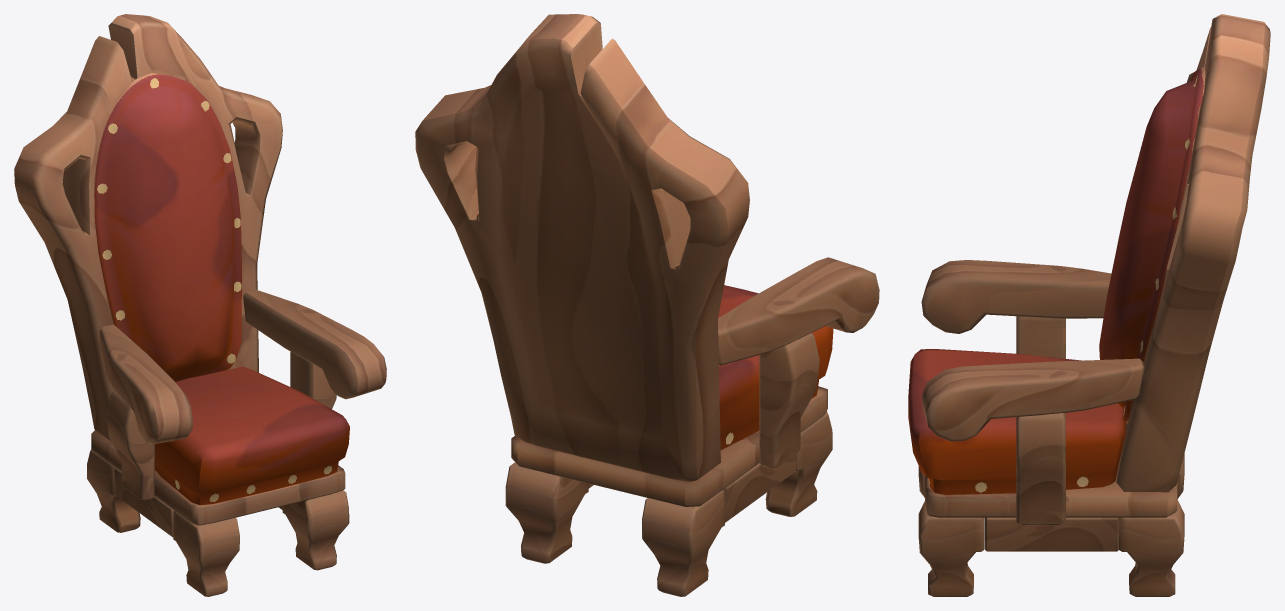
The picture shows the model from 3 angles, left to right: view 1: azimuth 30°, elevation 25°; view 2: azimuth 150°, elevation 25°; view 3: azimuth 270°, elevation 25°; orthographic projection. The views are drawn at different scales.
Visible parts, largest first — view 1: back_low, seat_low, arm_low_02, arm_low_01, deck_low, leg_low_01, leg_low_03, armSupport_low, leg_low_02, armSupport_low1, legBeam_low_01; view 2: back_low, arm_low_01, deck_low, armSupport_low, leg_low_02, leg_low_04, seat_low, leg_low_01, legBeam_low_01; view 3: back_low, seat_low, arm_low_02, arm_low_01, armSupport_low1, deck_low, leg_low_04, leg_low_03, legBeam_low_02, armSupport_low.
Part boxes in pixels (x1,y1,x2,y2): back_low: [14, 14, 282, 440]; seat_low: [155, 366, 349, 505]; arm_low_02: [243, 289, 386, 399]; arm_low_01: [99, 324, 192, 444]; deck_low: [91, 430, 345, 525]; leg_low_01: [173, 510, 239, 596]; leg_low_03: [282, 490, 349, 570]; armSupport_low: [106, 390, 154, 500]; leg_low_02: [87, 449, 140, 532]; armSupport_low1: [290, 351, 336, 408]; legBeam_low_01: [114, 468, 173, 537]; back_low: [415, 14, 749, 481]; arm_low_01: [718, 257, 879, 365]; deck_low: [511, 386, 827, 506]; armSupport_low: [759, 333, 819, 467]; leg_low_02: [642, 489, 724, 596]; leg_low_04: [505, 462, 588, 563]; seat_low: [718, 285, 833, 449]; leg_low_01: [765, 411, 832, 516]; legBeam_low_01: [724, 453, 796, 522]; back_low: [1099, 14, 1270, 492]; seat_low: [908, 349, 1125, 494]; arm_low_02: [921, 358, 1144, 441]; arm_low_01: [921, 260, 1111, 333]; armSupport_low1: [1016, 413, 1065, 525]; deck_low: [925, 476, 1177, 517]; leg_low_04: [1119, 499, 1184, 596]; leg_low_03: [918, 501, 983, 596]; legBeam_low_02: [984, 517, 1119, 551]; armSupport_low: [1016, 316, 1065, 358].
Bounding box in the file's own units: 112 × 200 × 121.
1 material, 1 textured.
